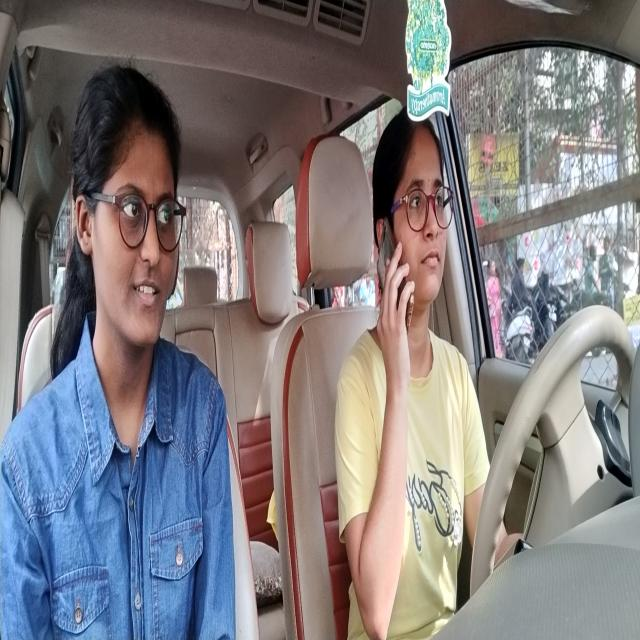mobile: (372, 240, 414, 324)
person: (78, 78, 180, 351), (378, 109, 448, 303)
